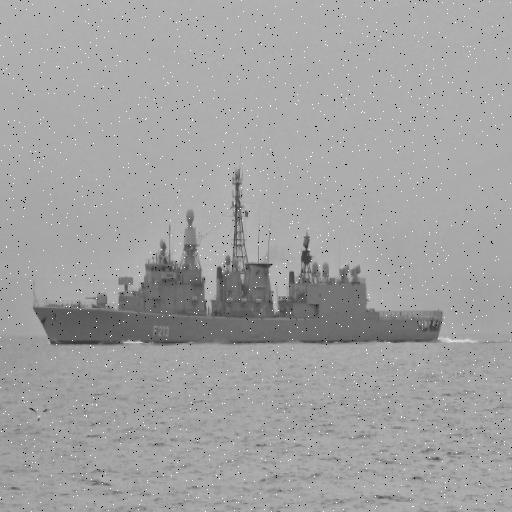Fragata: (32, 152, 450, 356)
